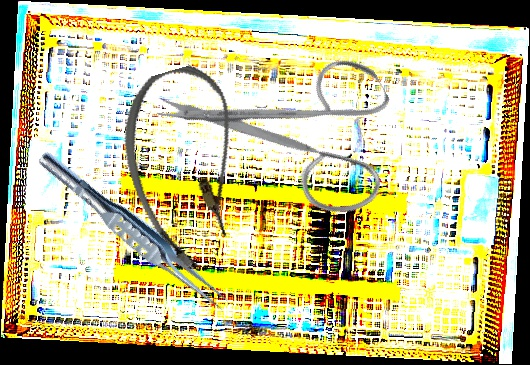Cannula: (106, 58, 269, 278)
Iris Scissors: (151, 0, 429, 272)
Tissue Forceps: (30, 146, 237, 317)
